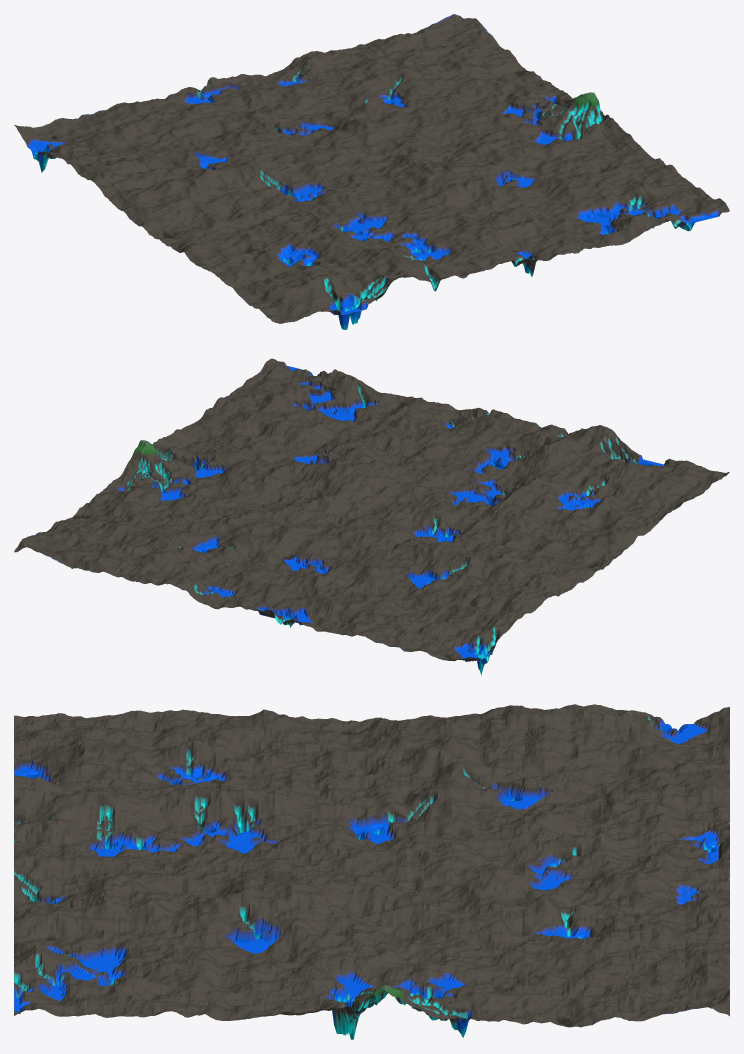
File: terrain_FIRE.obj
The picture shows the model from 3 angles, top to bottom: view 1: azimuth 30°, elevation 25°; view 2: azimuth 150°, elevation 25°; view 3: azimuth 270°, elevation 25°; orthographic projection. The views are drawn at different scales.
Parts seen in each view (by area): view 1: FIRE; view 2: FIRE; view 3: FIRE.
Boxes of the visible parts, x1,y1,x2,y2 form: FIRE: [14, 14, 729, 329]; FIRE: [14, 358, 729, 675]; FIRE: [14, 704, 729, 1039].
Bounding box in the file's own units: 255 × 27.06 × 255.
Materials: 1 (1 with a texture image).
